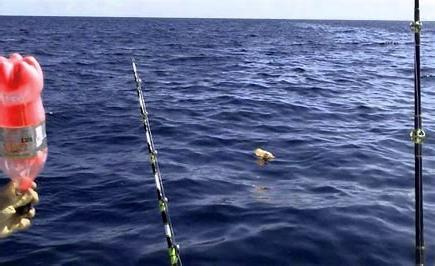Plastic: (0, 52, 48, 193), (254, 148, 275, 161)
